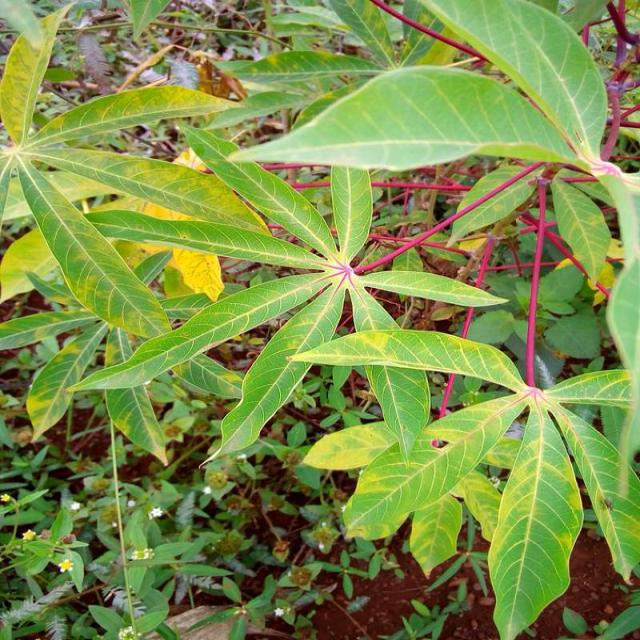cassava leaf: (2, 1, 640, 637), (226, 63, 584, 172)
